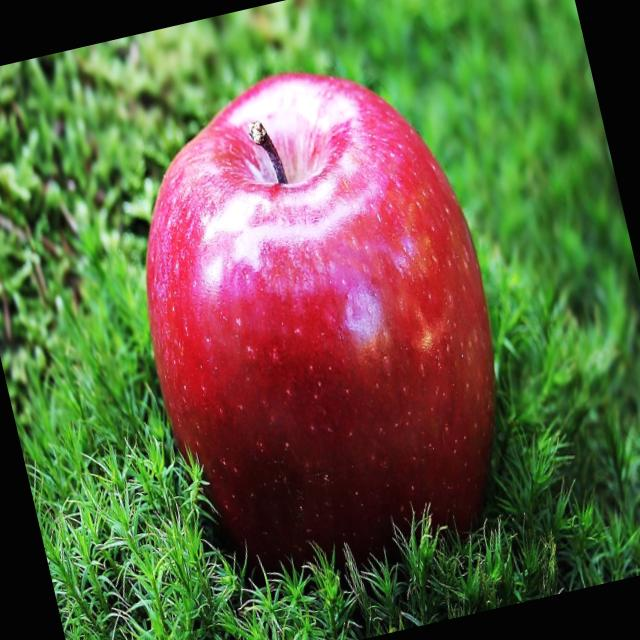apple: (98, 38, 530, 589)
